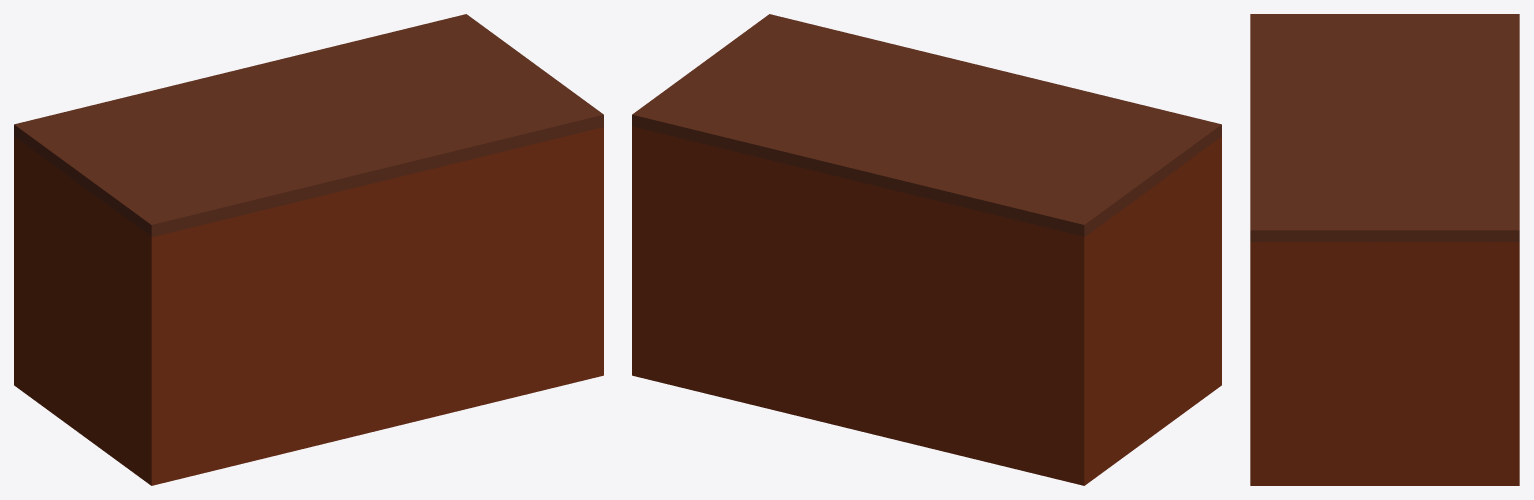
Rendered from kitchen box.fbx.
The picture shows the model from 3 angles, left to right: view 1: azimuth 30°, elevation 25°; view 2: azimuth 150°, elevation 25°; view 3: azimuth 270°, elevation 25°; orthographic projection. The views are drawn at different scales.
Visible parts, largest first — view 1: Cube, Cube.001; view 2: Cube, Cube.001; view 3: Cube, Cube.001.
Part boxes in pixels (<box>): Cube: <box>14,127,603,485</box>; Cube.001: <box>14,14,603,237</box>; Cube: <box>632,126,1221,485</box>; Cube.001: <box>632,14,1221,237</box>; Cube: <box>1250,242,1519,485</box>; Cube.001: <box>1250,14,1519,242</box>.
Size of the model in its own units: 190 by 105 by 100.
